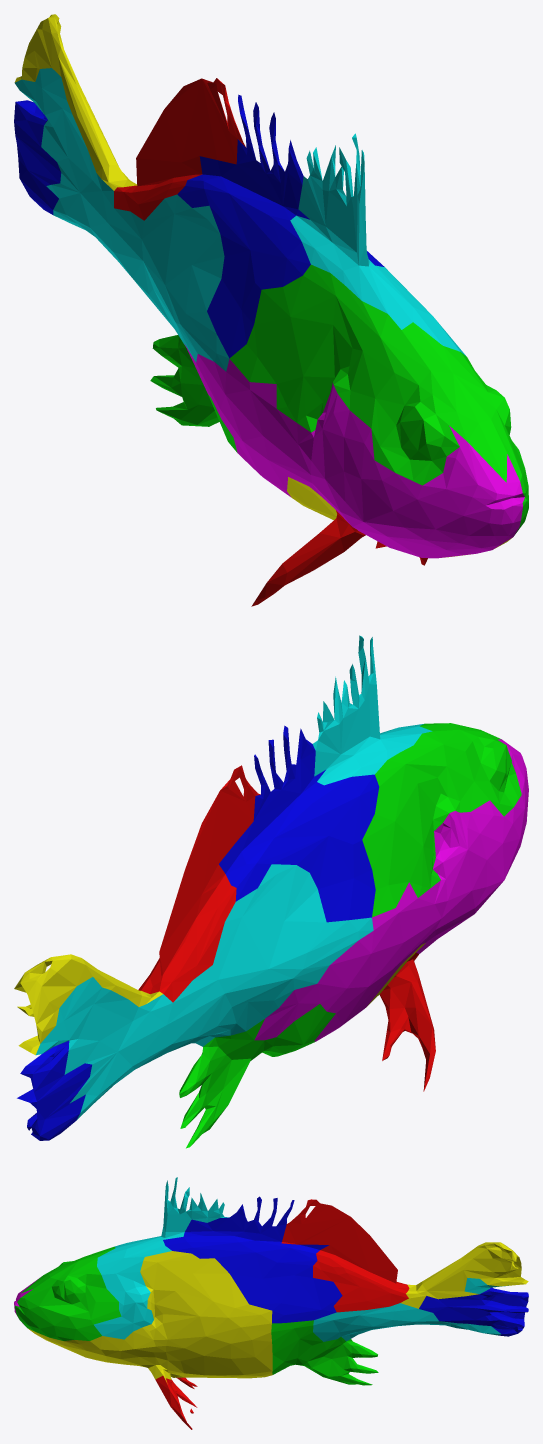
File: boguchi_nanite_SIMPLI.fbx
3 renders of one model, top to bottom at view 1: azimuth 30°, elevation 25°; view 2: azimuth 150°, elevation 25°; view 3: azimuth 270°, elevation 25°, orthographic. The views are drawn at different scales.
Bounding box in the file's own units: 0.1934 × 0.5007 × 0.9992.
